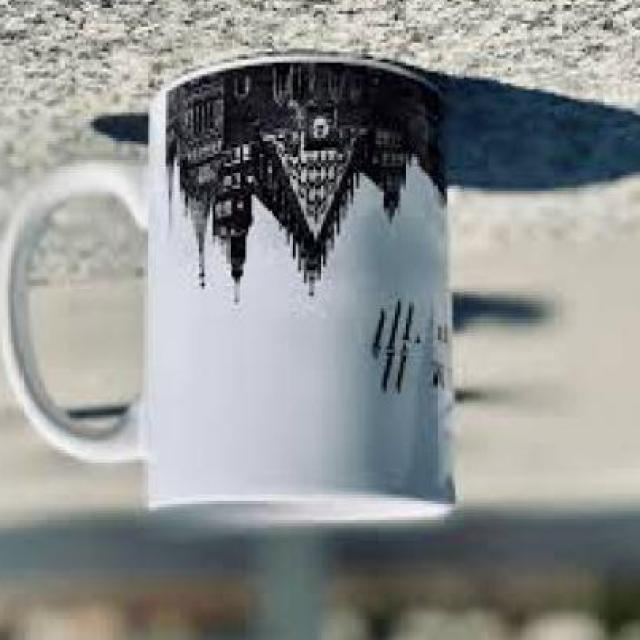cup: (0, 55, 464, 527)
